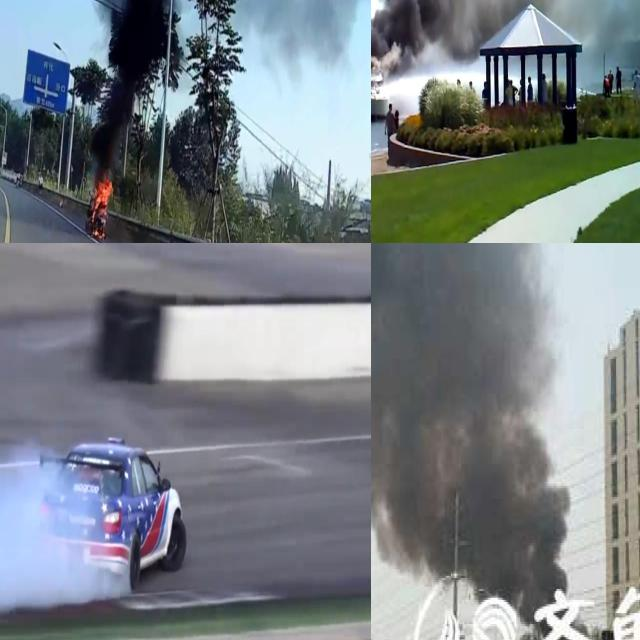fire: (88, 174, 112, 240)
smoke: (371, 243, 570, 619), (89, 0, 362, 177), (0, 392, 130, 611), (371, 0, 640, 53)
